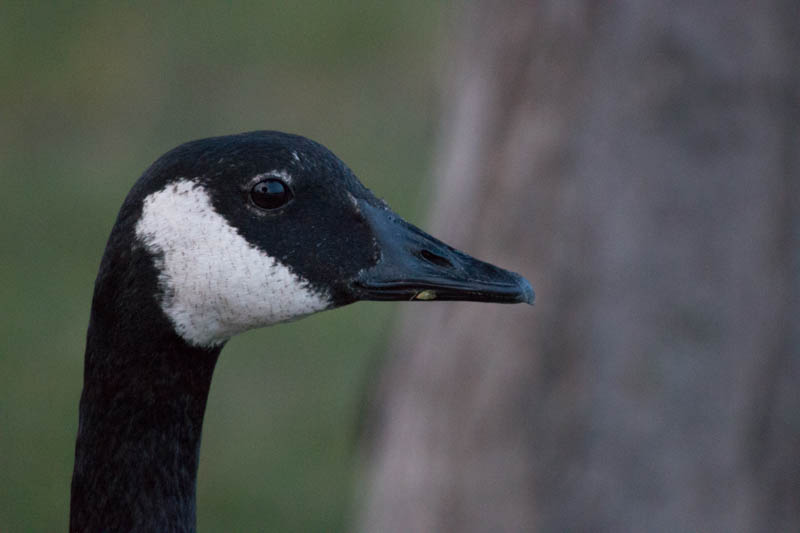goose-head: (95, 131, 536, 350)
